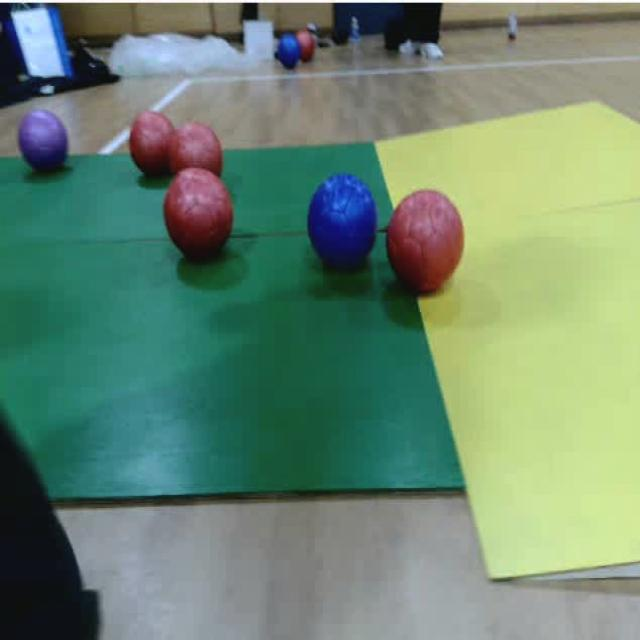blue_ball: (305, 173, 379, 277), (280, 36, 296, 69)
purple_ball: (19, 110, 70, 180)
red_ball: (382, 191, 468, 301), (163, 165, 236, 265), (166, 121, 224, 188), (128, 110, 176, 178), (298, 29, 314, 61)
